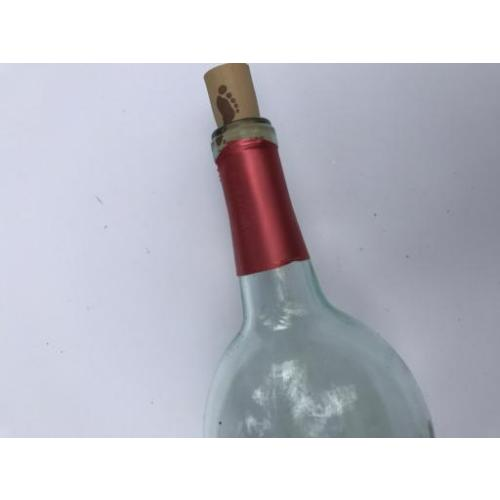glass: (210, 126, 434, 438)
